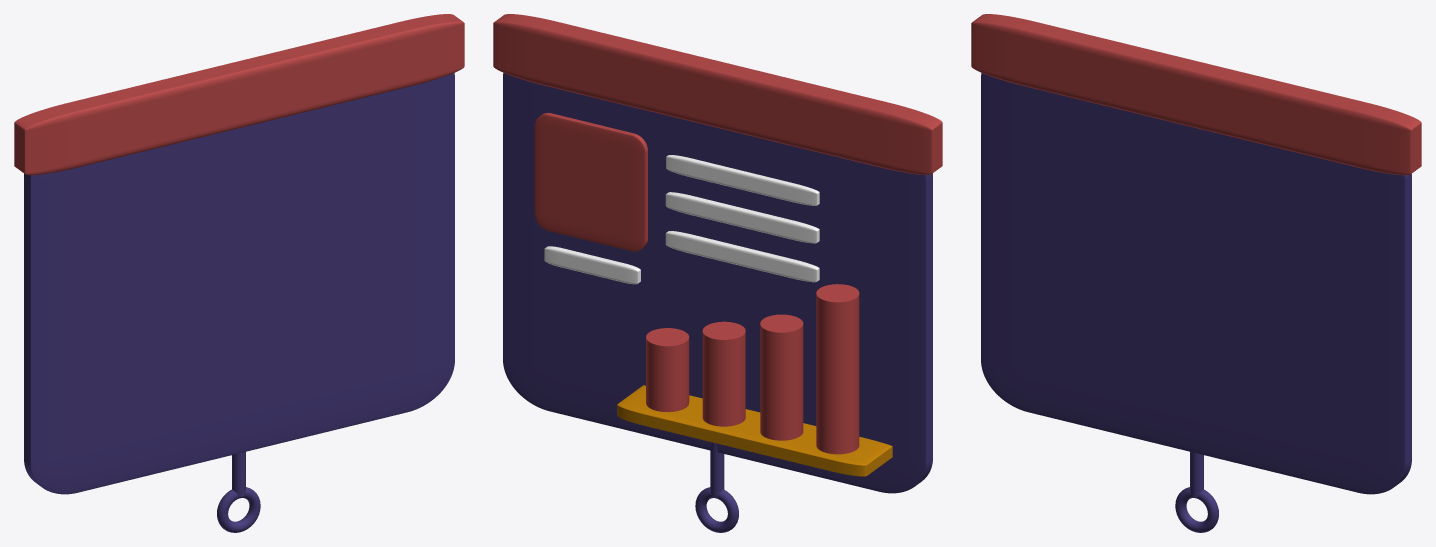
Rendered from iconCreate.glb.
The picture shows the model from 3 angles, left to right: view 1: azimuth 30°, elevation 25°; view 2: azimuth 150°, elevation 25°; view 3: azimuth 330°, elevation 25°; orthographic projection.
Parts seen in each view (by area): view 1: cube (1)_1, cube (2)_2, torus (1)_4, cylinder (1)_3; view 2: cube (1)_1, cube (2)_2, cube (3)_5, cylinder (3)_12, cube (5)_10, cylinder (4)_13, cylinder (5)_14, cylinder (2)_11, cube (6)_8, cube (5)_7, cube (4)_6, cube (7)_9 (+2 smaller); view 3: cube (1)_1, cube (2)_2, torus (1)_4, cylinder (1)_3.
Boxes of the visible parts, left/top/right/bottom form: cube (1)_1: left=24, top=73, right=454, bottom=494; cube (2)_2: left=14, top=14, right=464, bottom=175; torus (1)_4: left=217, top=487, right=260, bottom=532; cylinder (1)_3: left=232, top=452, right=245, bottom=496; cube (1)_1: left=503, top=73, right=932, bottom=493; cube (2)_2: left=493, top=14, right=942, bottom=174; cube (3)_5: left=534, top=112, right=647, bottom=251; cylinder (3)_12: left=816, top=284, right=859, bottom=454; cube (5)_10: left=617, top=385, right=892, bottom=476; cylinder (4)_13: left=760, top=314, right=803, bottom=440; cylinder (5)_14: left=702, top=321, right=745, bottom=426; cylinder (2)_11: left=646, top=328, right=689, bottom=412; cube (6)_8: left=665, top=192, right=819, bottom=243; cube (5)_7: left=665, top=231, right=819, bottom=282; cube (4)_6: left=666, top=155, right=819, bottom=205; cube (7)_9: left=544, top=246, right=640, bottom=284; cube (1)_1: left=981, top=73, right=1411, bottom=494; cube (2)_2: left=971, top=14, right=1421, bottom=175; torus (1)_4: left=1175, top=487, right=1218, bottom=532; cylinder (1)_3: left=1190, top=452, right=1203, bottom=496.
Bounding box in the file's own units: 3.12 × 3.16 × 0.4959.
